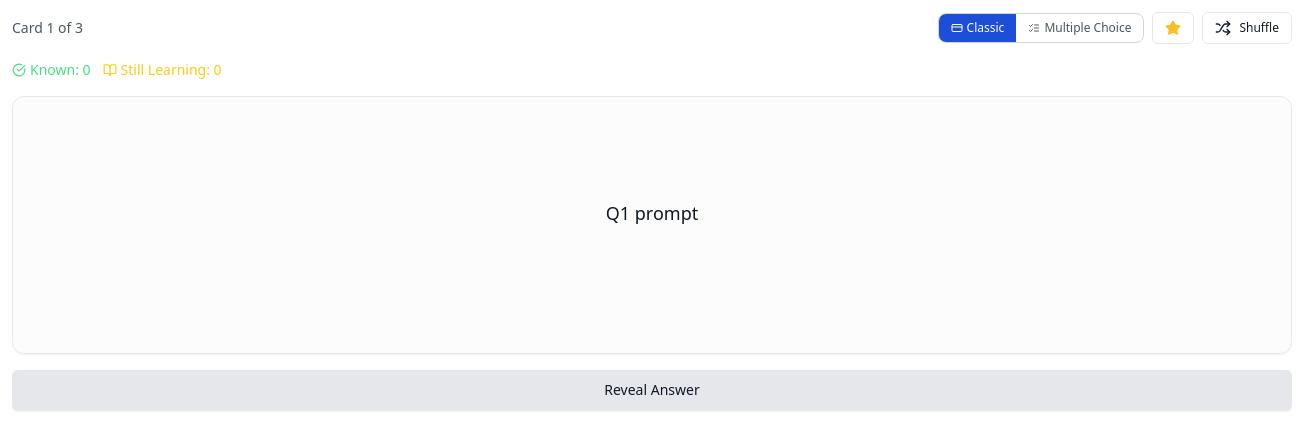
Test: B1: FlashcardViewer in a filtered view › rating in Practice Incorrect never reads past the end of the list
Later steps or results of the test are not shown.
What coordinates should you click on to do the following:
click the button "Reveal Answer"
I would click on:
 (652, 390)
Its box is [12, 370, 1292, 410].
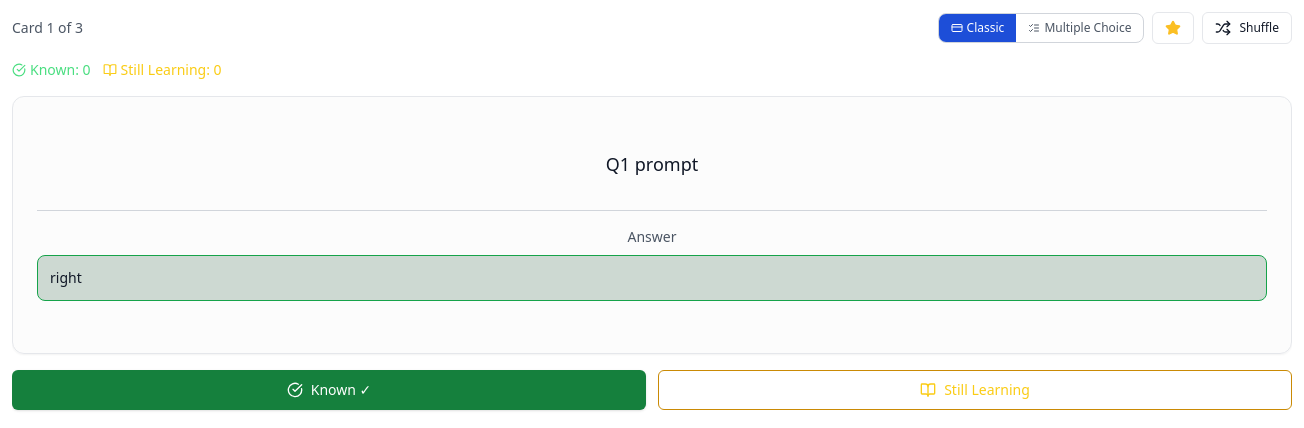
What coordinates should you click on to do the following:
click the button with aria-label "Mark card as still learning"
I would click on:
 (975, 390)
Its box is [658, 370, 1292, 410].
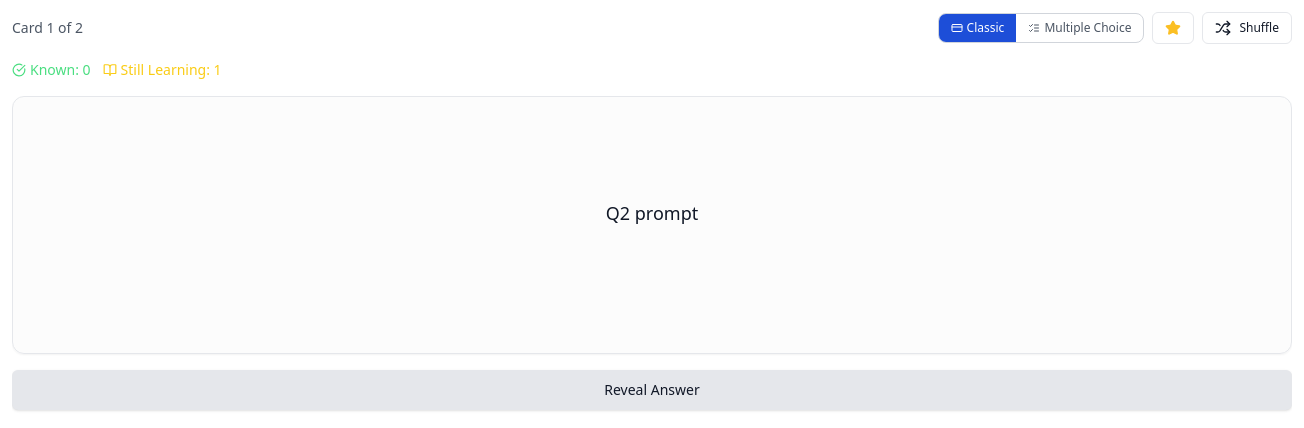
Expected: the text "Q2 prompt" is shown, [606, 199, 698, 227]
Expected: the text "Card 1 of 2" is shown, [12, 18, 83, 38]
What coordinates should you click on to do the following:
click the button "Reveal Answer"
I would click on:
 (652, 390)
Its box is [12, 370, 1292, 410].
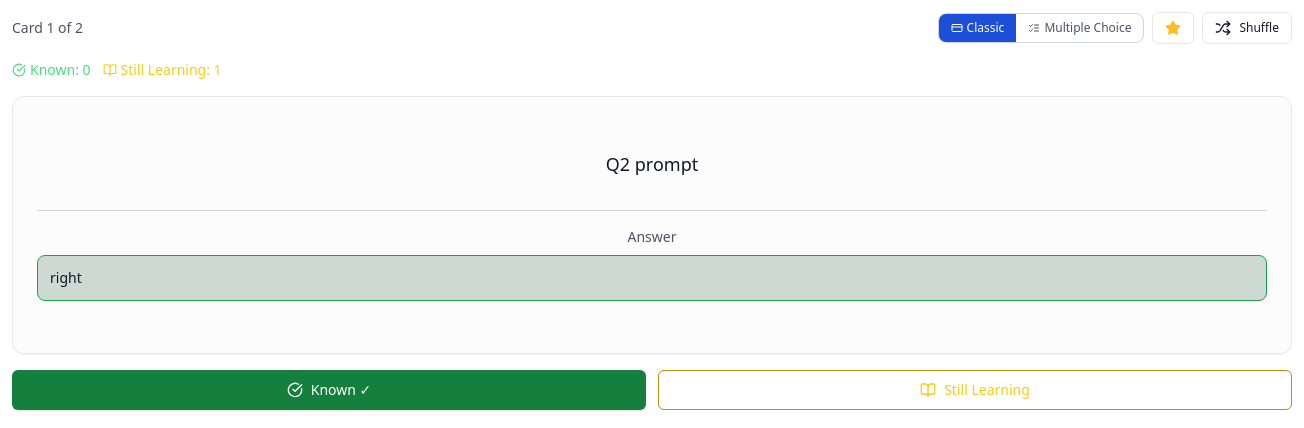
What coordinates should you click on to do the following:
click the button with aria-label "Mark card as known"
I would click on:
 (329, 390)
Its box is [12, 370, 646, 410].
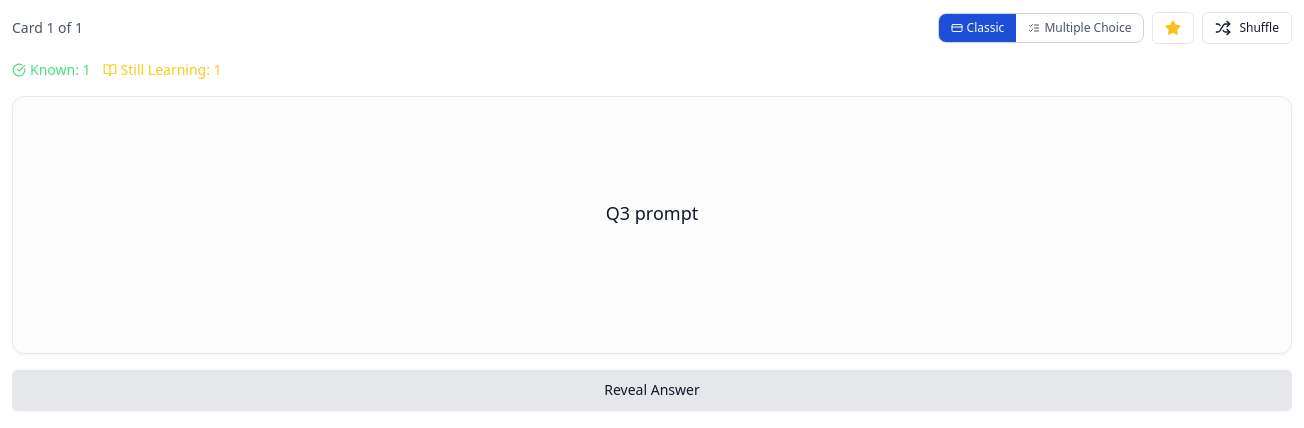
Expected: the text "Q3 prompt" is shown, [606, 199, 698, 227]
